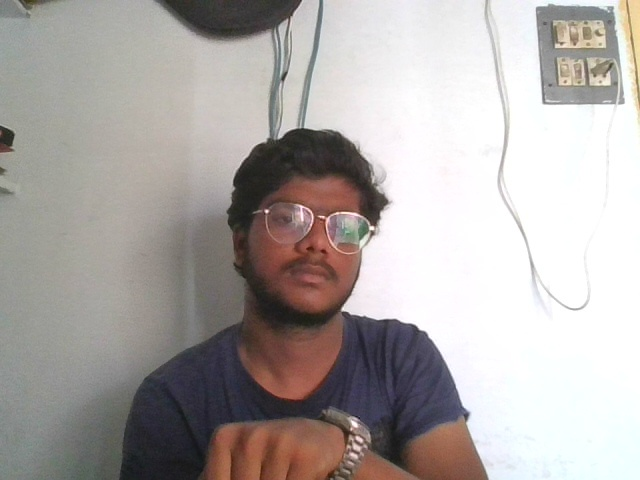Yes: (207, 413, 348, 478)
